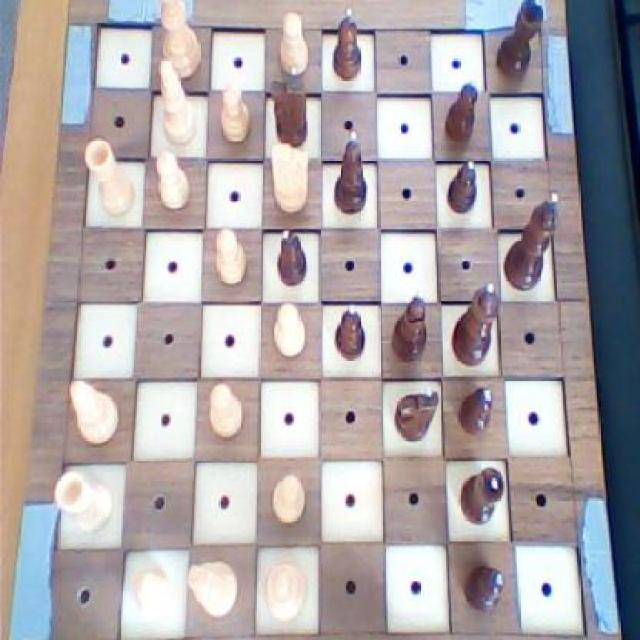bishop: (389, 288, 432, 366), (331, 127, 368, 216)
black-bishop: (502, 189, 562, 291)
black-king: (266, 63, 311, 151), (391, 382, 442, 446)
black-knight: (328, 6, 364, 82), (443, 77, 481, 148), (271, 224, 309, 292), (461, 558, 507, 614), (329, 298, 368, 362), (443, 158, 482, 217), (454, 385, 495, 440)
black-pawn: (445, 272, 500, 370)
black-queen: (491, 0, 546, 85), (456, 462, 506, 528)
black-rook: (155, 52, 200, 150), (66, 378, 120, 451)
white-bishop: (154, 0, 203, 83)
white-king: (183, 554, 238, 617), (271, 142, 310, 220)
white-knight: (151, 143, 191, 212), (211, 225, 250, 290), (132, 562, 174, 620), (206, 378, 243, 442), (266, 471, 309, 526), (216, 81, 252, 146), (270, 300, 306, 362), (274, 12, 309, 74)
white-pawn: (258, 558, 311, 622)
white-queen: (81, 135, 137, 220), (51, 468, 118, 535)
